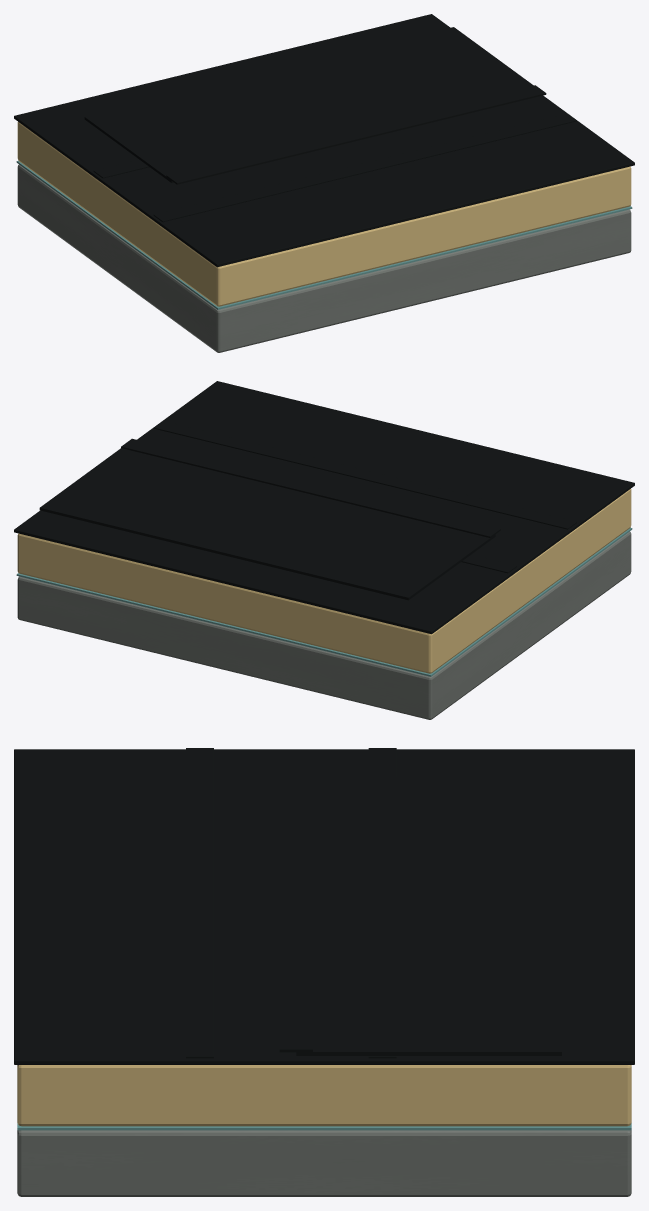
File: modell.glb
3 views of the same model, one above another, from view 1: azimuth 30°, elevation 25°; view 2: azimuth 150°, elevation 25°; view 3: azimuth 270°, elevation 25° (orthographic). The views are drawn at different scales.
Visible parts, largest first — view 1: f01-abdichtung_deckung, f01-abdichtung_deckung.001, f01-untergrund_tragwerk, f01-daemmung_daemmung, f01-naht_deckung, f01-luftdichtheit_luftdichtheit; view 2: f01-abdichtung_deckung, f01-abdichtung_deckung.001, f01-untergrund_tragwerk, f01-daemmung_daemmung, f01-naht_deckung, f01-luftdichtheit_luftdichtheit; view 3: f01-abdichtung_deckung, f01-abdichtung_deckung.001, f01-untergrund_tragwerk, f01-daemmung_daemmung, f01-naht_deckung, f01-luftdichtheit_luftdichtheit.
Part boxes in pixels (x1,y1,x2,y2): f01-abdichtung_deckung: (14, 14, 634, 267); f01-abdichtung_deckung.001: (84, 27, 533, 182); f01-untergrund_tragwerk: (17, 164, 631, 352); f01-daemmung_daemmung: (17, 122, 631, 306); f01-naht_deckung: (93, 85, 576, 222); f01-luftdichtheit_luftdichtheit: (16, 160, 632, 309); f01-abdichtung_deckung: (14, 381, 634, 634); f01-abdichtung_deckung.001: (39, 448, 495, 600); f01-untergrund_tragwerk: (17, 531, 631, 719); f01-daemmung_daemmung: (17, 489, 631, 673); f01-naht_deckung: (121, 421, 576, 573); f01-luftdichtheit_luftdichtheit: (16, 527, 632, 676); f01-abdichtung_deckung: (14, 749, 634, 1064); f01-abdichtung_deckung.001: (296, 777, 561, 1055); f01-untergrund_tragwerk: (17, 1130, 631, 1196); f01-daemmung_daemmung: (17, 1065, 631, 1126); f01-naht_deckung: (186, 748, 396, 1058); f01-luftdichtheit_luftdichtheit: (17, 1123, 631, 1130).
Bounding box in the file's own units: 2.22 × 0.494 × 1.87.
4 materials, 1 textured.
